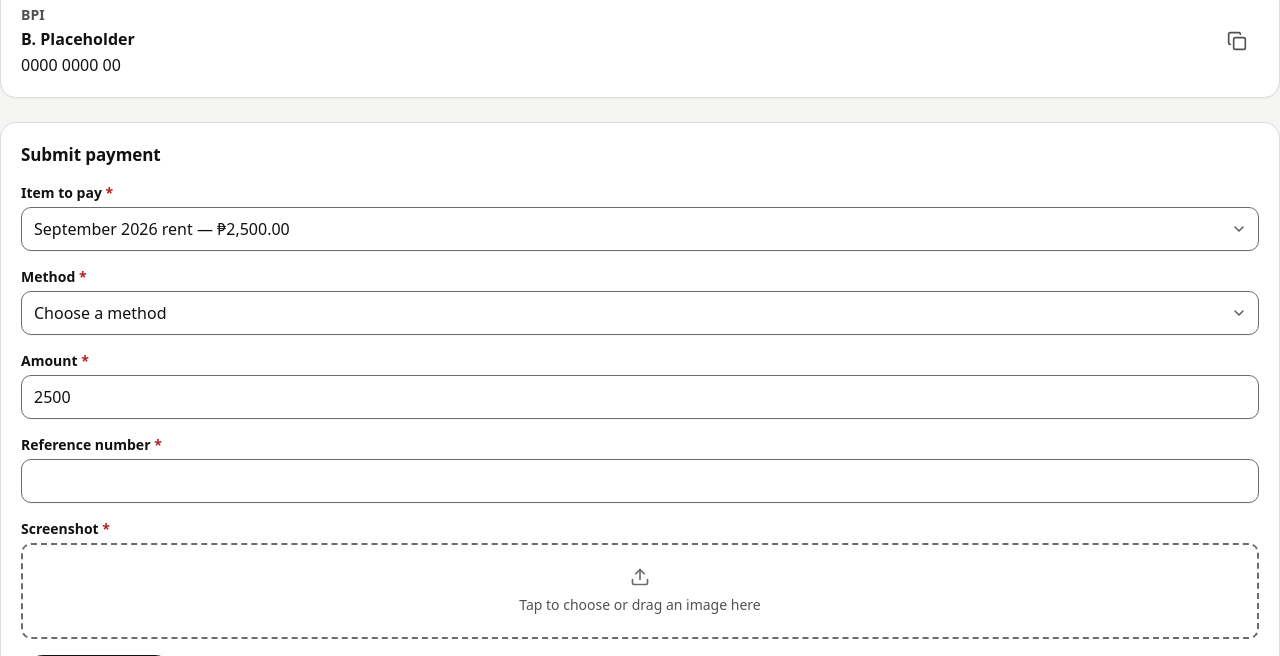
Test: PortalPayPage (F10, SC-17..SC-25, SC-59) › shows the excess-to-credit helper when the amount exceeds the remaining balance (R20, R52)
This screenshot has width=1280, height=656.
(page scrolled)
Replace the text in the number field labelled "Amount *" with "3000" at (640, 397), box left=21, top=375, right=1259, bottom=419
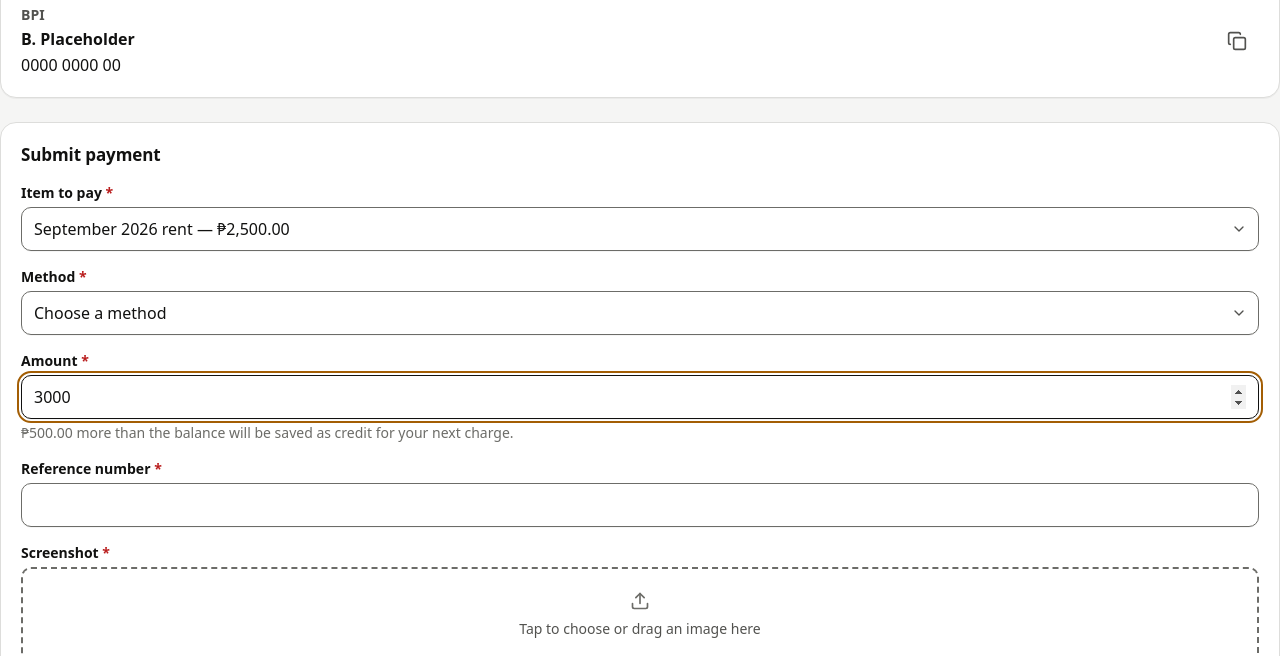
Check: the text "₱500.00 more than the balance will be saved as credit" is shown, box left=21, top=423, right=514, bottom=442
